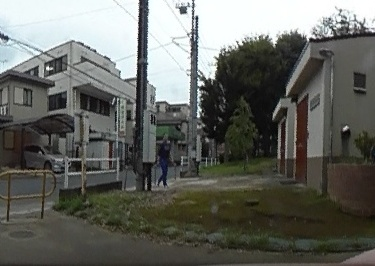person: (155, 131, 172, 186)
